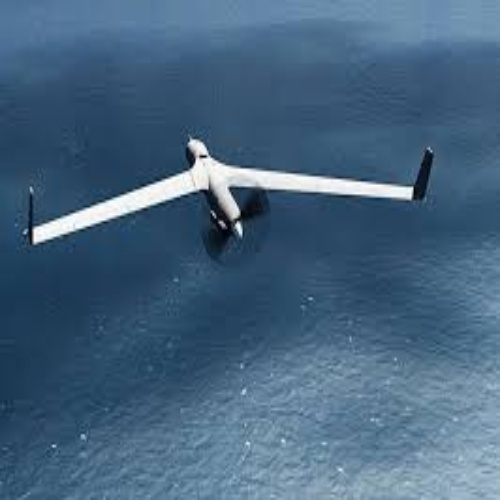uav681: (19, 135, 436, 264)
